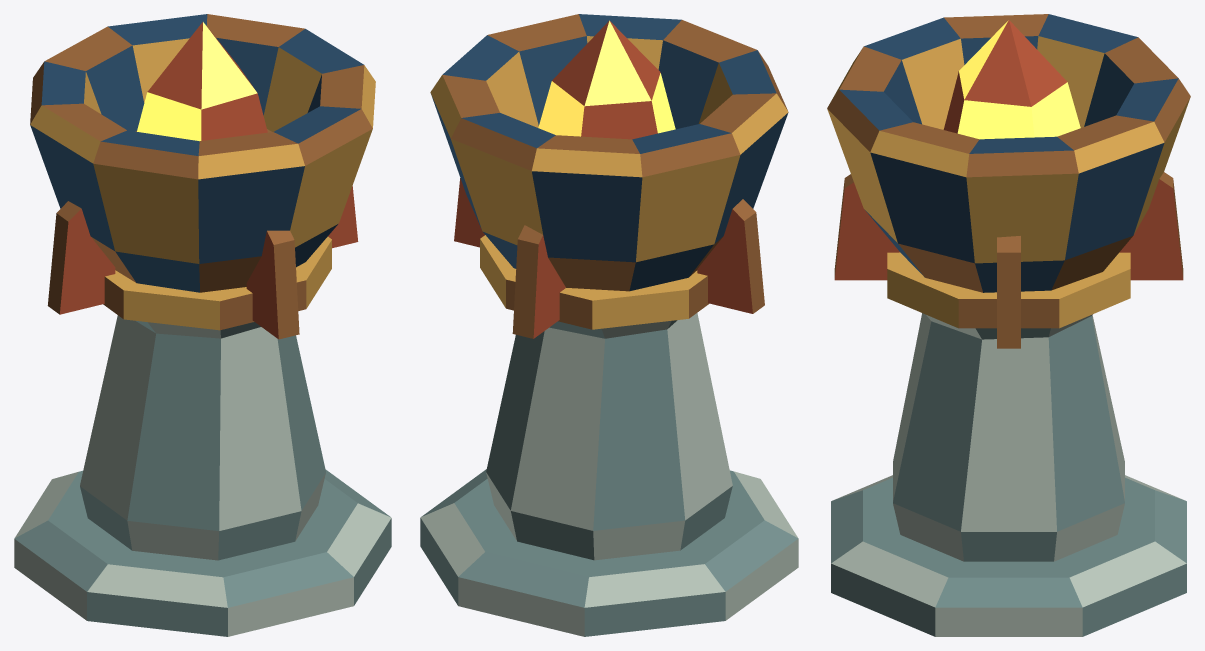
Rendered from tower_ember.glb.
3 renders of one model, left to right at view 1: azimuth 30°, elevation 25°; view 2: azimuth 150°, elevation 25°; view 3: azimuth 270°, elevation 25°, orthographic.
Parts seen in each view (by area): view 1: Ember_bowl, ember_shaft, ember_foundation, Ember_fire, ember_gold_collar, Ember_fin.002, Ember_fin.003, Ember_fin; view 2: Ember_bowl, ember_shaft, ember_foundation, Ember_fire, ember_gold_collar, Ember_fin.002, Ember_fin.001, Ember_fin; view 3: Ember_bowl, ember_shaft, ember_foundation, Ember_fire, ember_gold_collar, Ember_fin.001, Ember_fin.003, Ember_fin.
Boxes of the visible parts, x1=… form: Ember_bowl: x1=30, y1=14, x2=375, y2=292; ember_shaft: x1=80, y1=315, x2=325, y2=560; ember_foundation: x1=14, y1=469, x2=391, y2=636; Ember_fire: x1=137, y1=22, x2=267, y2=141; ember_gold_collar: x1=103, y1=236, x2=331, y2=330; Ember_fin.002: x1=47, y1=201, x2=115, y2=314; Ember_fin.003: x1=246, y1=230, x2=299, y2=339; Ember_fin: x1=328, y1=186, x2=358, y2=248; Ember_bowl: x1=430, y1=14, x2=788, y2=291; ember_shaft: x1=486, y1=313, x2=732, y2=560; ember_foundation: x1=420, y1=469, x2=798, y2=636; Ember_fire: x1=538, y1=20, x2=675, y2=139; ember_gold_collar: x1=480, y1=235, x2=709, y2=329; Ember_fin.002: x1=697, y1=199, x2=764, y2=313; Ember_fin.001: x1=512, y1=225, x2=565, y2=338; Ember_fin: x1=454, y1=178, x2=484, y2=247; Ember_bowl: x1=827, y1=14, x2=1190, y2=292; ember_shaft: x1=893, y1=313, x2=1124, y2=561; ember_foundation: x1=831, y1=475, x2=1186, y2=636; Ember_fire: x1=943, y1=20, x2=1080, y2=139; ember_gold_collar: x1=887, y1=252, x2=1130, y2=328; Ember_fin.001: x1=1119, y1=172, x2=1183, y2=280; Ember_fin.003: x1=834, y1=174, x2=899, y2=280; Ember_fin: x1=997, y1=236, x2=1020, y2=348.
Size of the model in its own units: 1.76 by 2.95 by 1.79.
